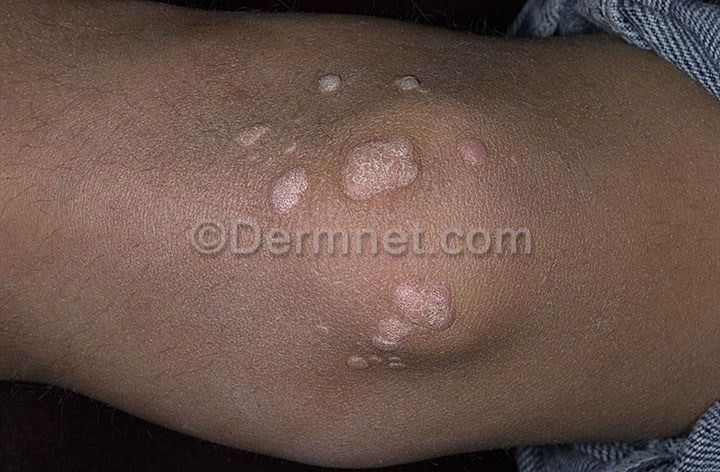Warts: (336, 277, 465, 377), (325, 126, 431, 205), (254, 162, 319, 216), (449, 122, 499, 187), (382, 63, 445, 109), (226, 104, 276, 157), (311, 65, 347, 105)
